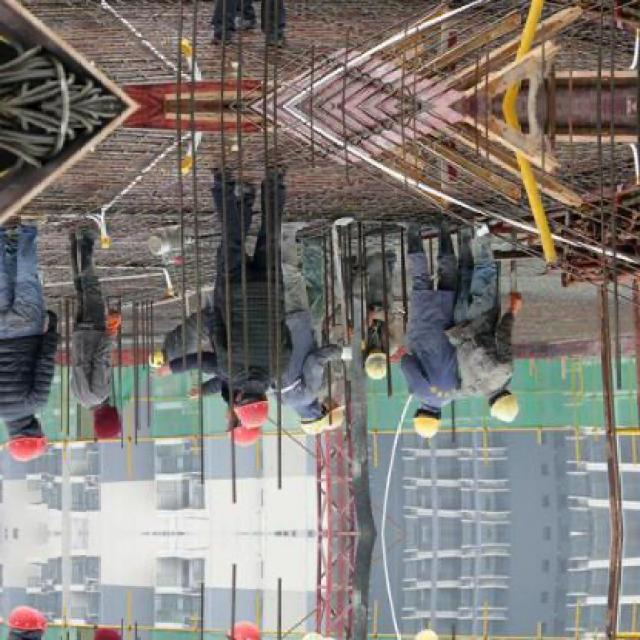con casco: (370, 316, 459, 387), (478, 362, 556, 437), (222, 366, 307, 429), (0, 404, 62, 468), (268, 393, 331, 450), (78, 390, 138, 441), (228, 400, 272, 444), (418, 403, 436, 443)
